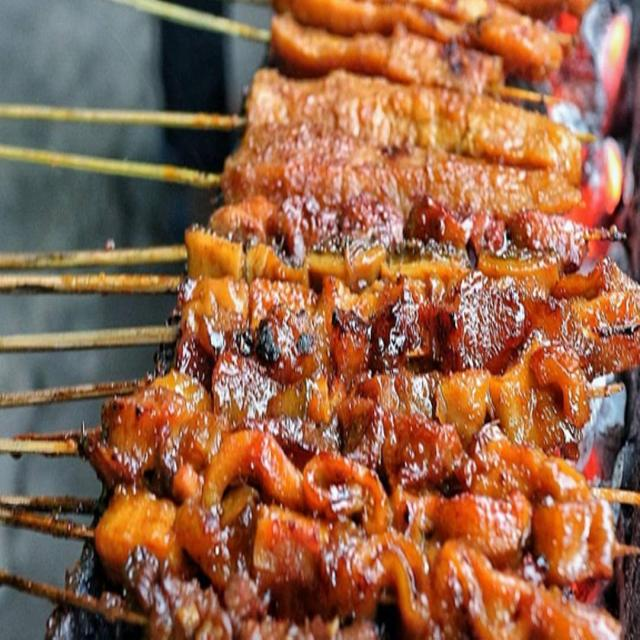Sate: (11, 20, 582, 626)
